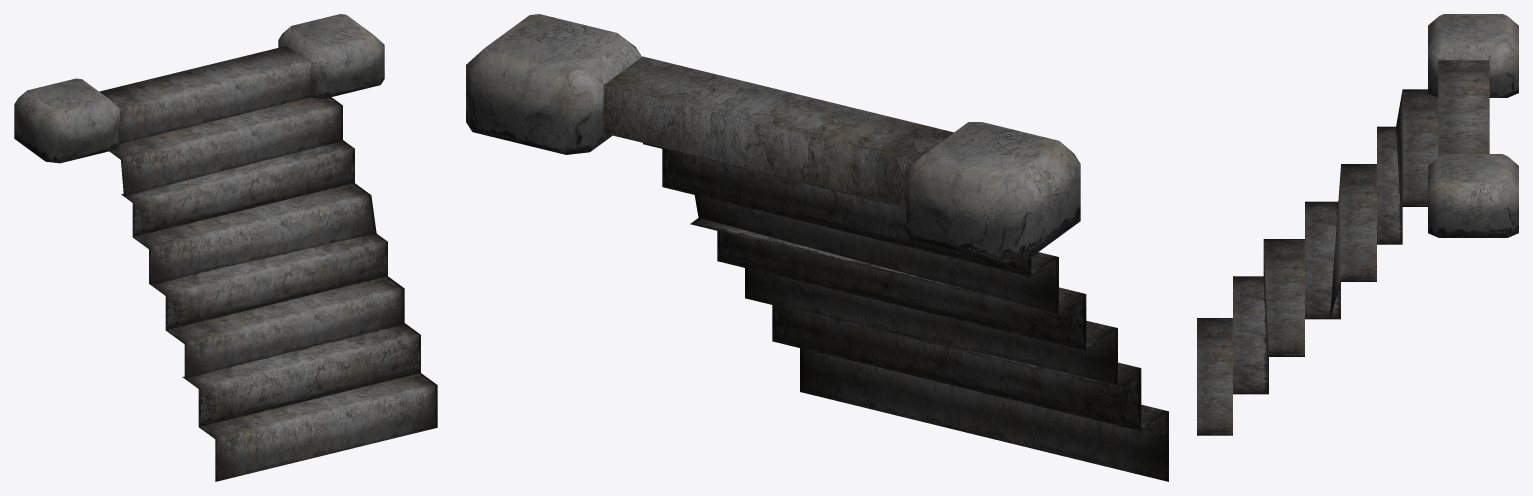
Rendered from stairs_up.obj.
3 views of the same model, side by side, from view 1: azimuth 30°, elevation 25°; view 2: azimuth 150°, elevation 25°; view 3: azimuth 270°, elevation 25° (orthographic). The views are drawn at different scales.
Parts seen in each view (by area): view 1: Grim_Bear_Stairs_Up; view 2: Grim_Bear_Stairs_Up; view 3: Grim_Bear_Stairs_Up.
Part boxes in pixels (x1,y1,x2,y2): Grim_Bear_Stairs_Up: [14, 14, 437, 481]; Grim_Bear_Stairs_Up: [466, 14, 1168, 481]; Grim_Bear_Stairs_Up: [1197, 14, 1518, 435].
Size of the model in its own units: 329 by 277 by 249.
Materials: 2 (2 with a texture image).
